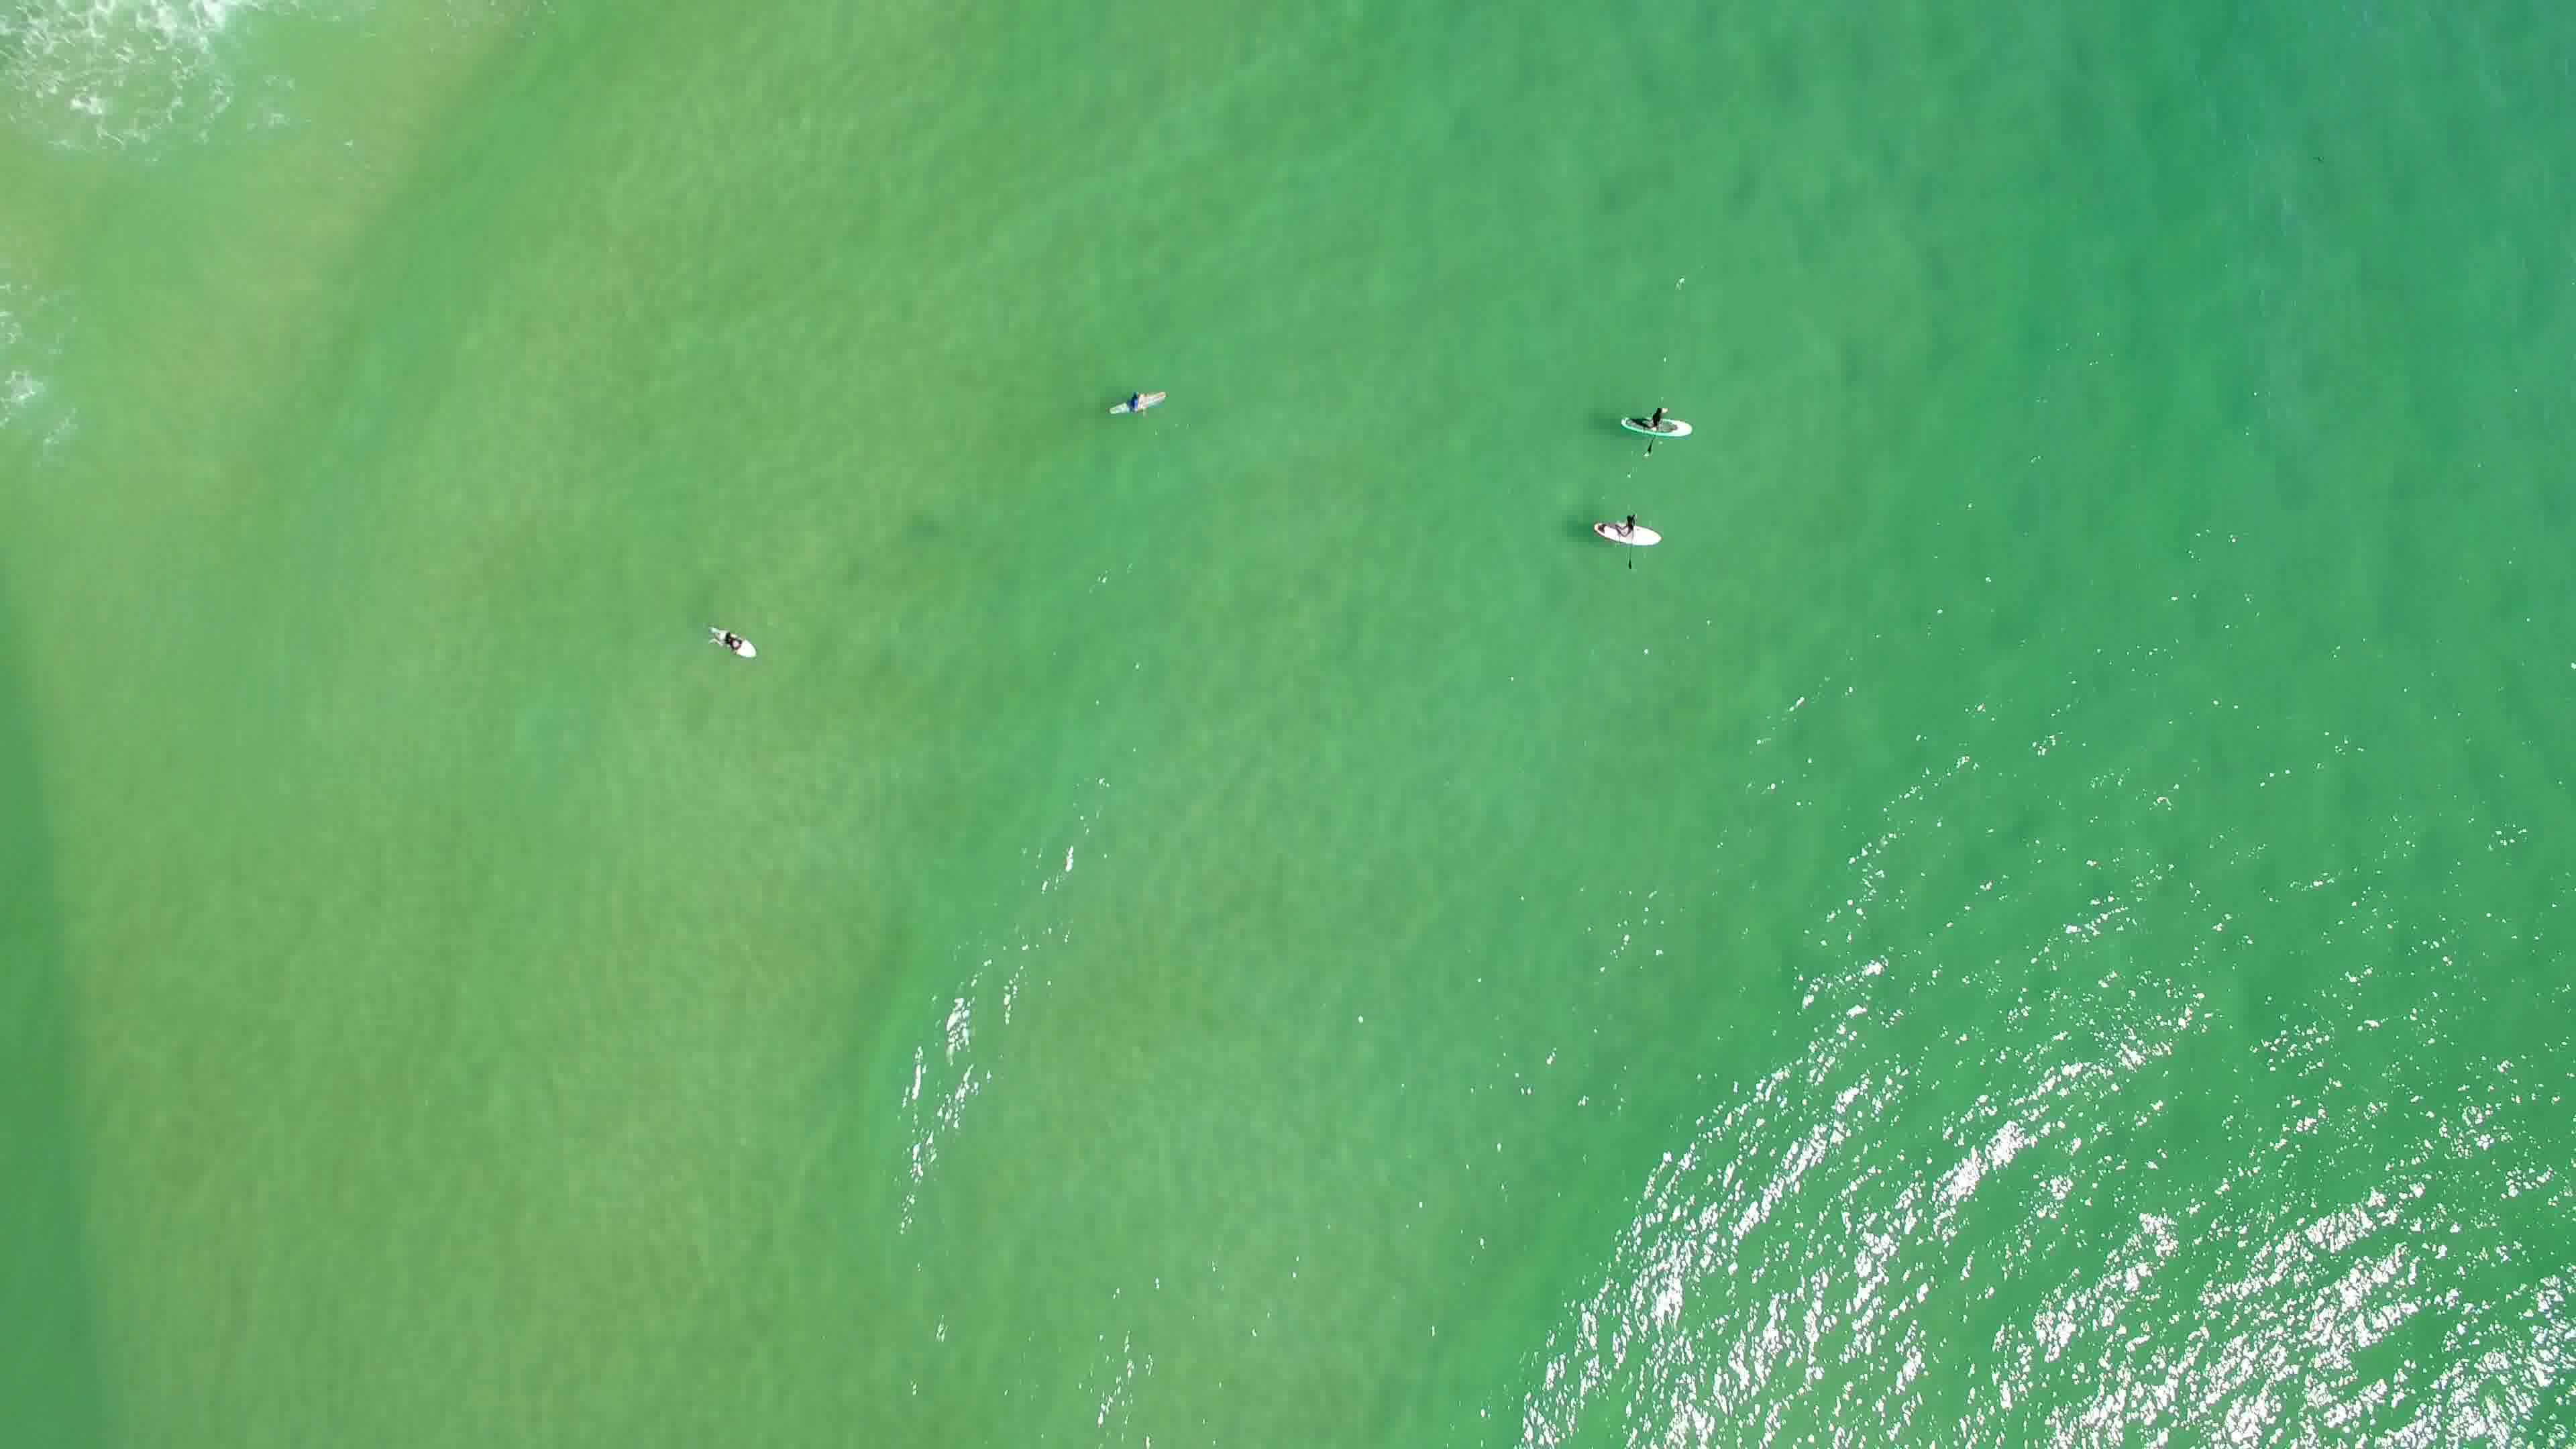surfer: (1585, 506, 1670, 570), (1612, 400, 1698, 455), (702, 614, 768, 667), (1106, 380, 1173, 426)
